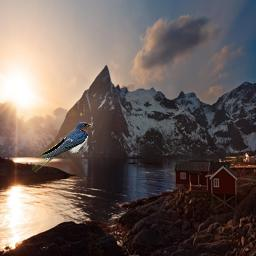Swallow: (32, 122, 92, 172)
